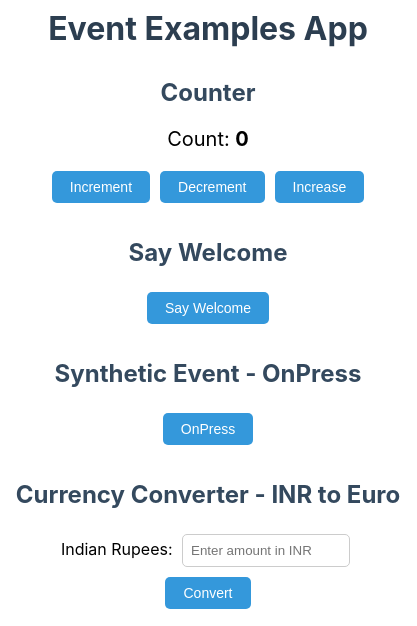
decrement button decreases counter
Click the button "Decrement" at (212, 187), box [160,171,264,203]
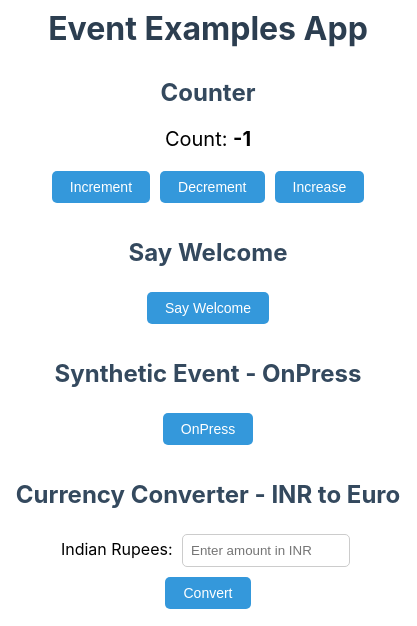
Expected: the text "Count: -1" is shown, [165,127,251,151]
